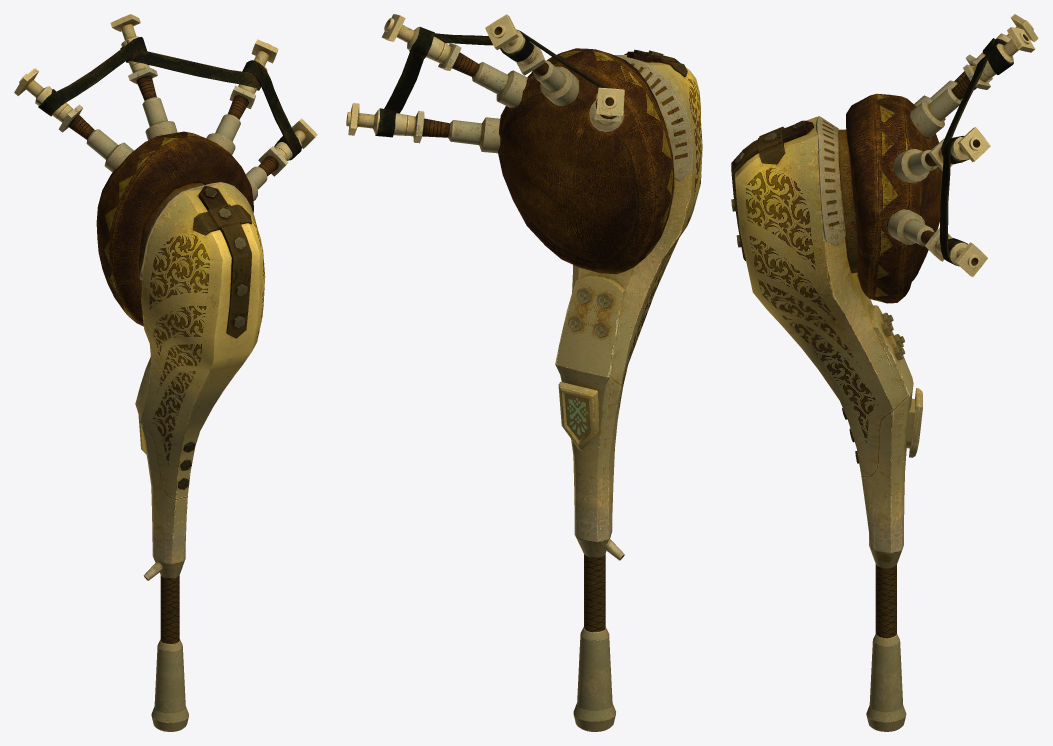
File: bs_hue006.obj
The picture shows the model from 3 angles, left to right: view 1: azimuth 30°, elevation 25°; view 2: azimuth 150°, elevation 25°; view 3: azimuth 270°, elevation 25°; orthographic projection. The views are drawn at different scales.
Visible parts, largest first — view 1: bs_hue006_001_LOD_1, bs_hue006_002_LOD_1, bs_hue006_000_LOD_1; view 2: bs_hue006_001_LOD_1, bs_hue006_000_LOD_1, bs_hue006_002_LOD_1; view 3: bs_hue006_001_LOD_1, bs_hue006_000_LOD_1, bs_hue006_002_LOD_1.
Boxes of the visible parts, x1,y1,x2,y2 form: bs_hue006_001_LOD_1: (135, 182, 265, 731); bs_hue006_002_LOD_1: (14, 14, 317, 201); bs_hue006_000_LOD_1: (96, 131, 253, 326); bs_hue006_001_LOD_1: (555, 49, 702, 731); bs_hue006_000_LOD_1: (498, 48, 674, 274); bs_hue006_002_LOD_1: (348, 14, 624, 153); bs_hue006_001_LOD_1: (731, 116, 922, 731); bs_hue006_000_LOD_1: (846, 93, 942, 303); bs_hue006_002_LOD_1: (886, 14, 1038, 276).
Size of the model in its own units: 130 by 304 by 120.
